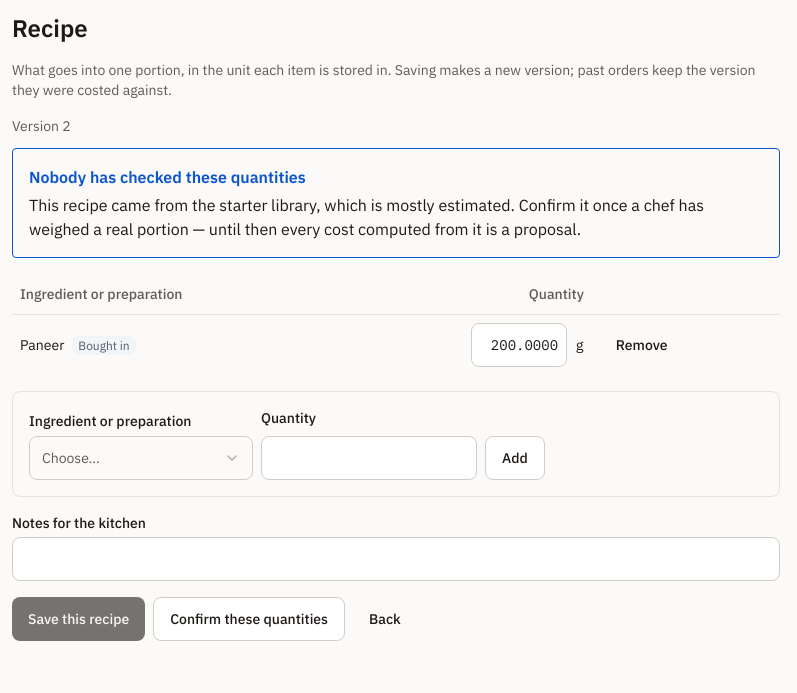
saving › still says so when a chef empties a recipe that had lines
Expected: the text "Paneer" is shown, [20, 336, 64, 354]
Click the button "Remove" at x=642, y=344, box [600, 322, 684, 366]
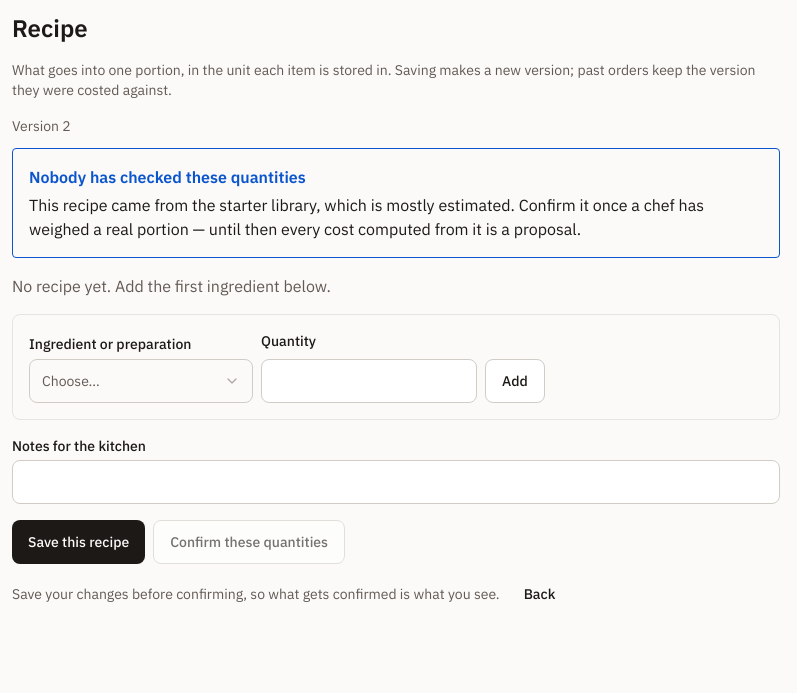
Click the button "Save this recipe" at x=79, y=542, box [12, 520, 145, 564]
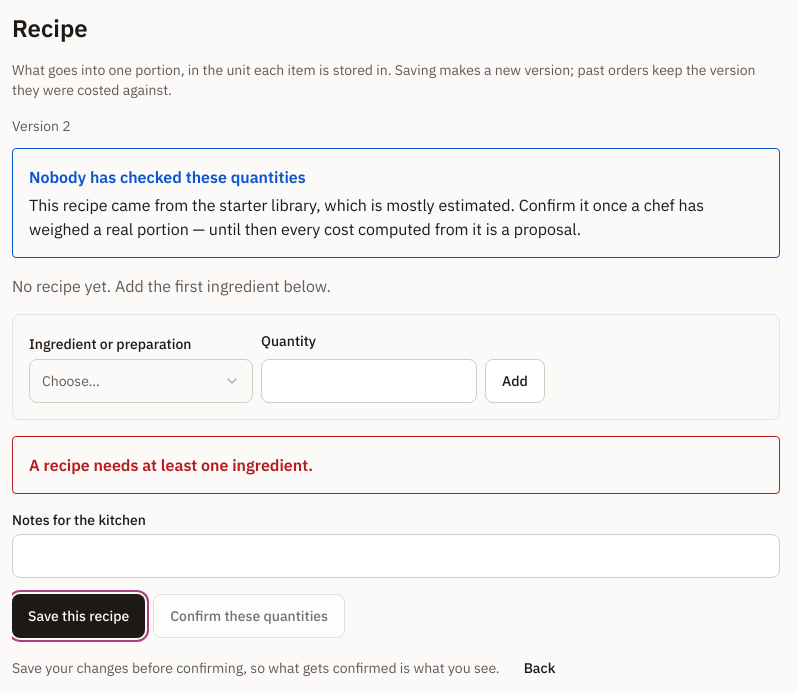
Expected: the text "A recipe needs at least one ingredient." is shown, [29, 455, 313, 475]
